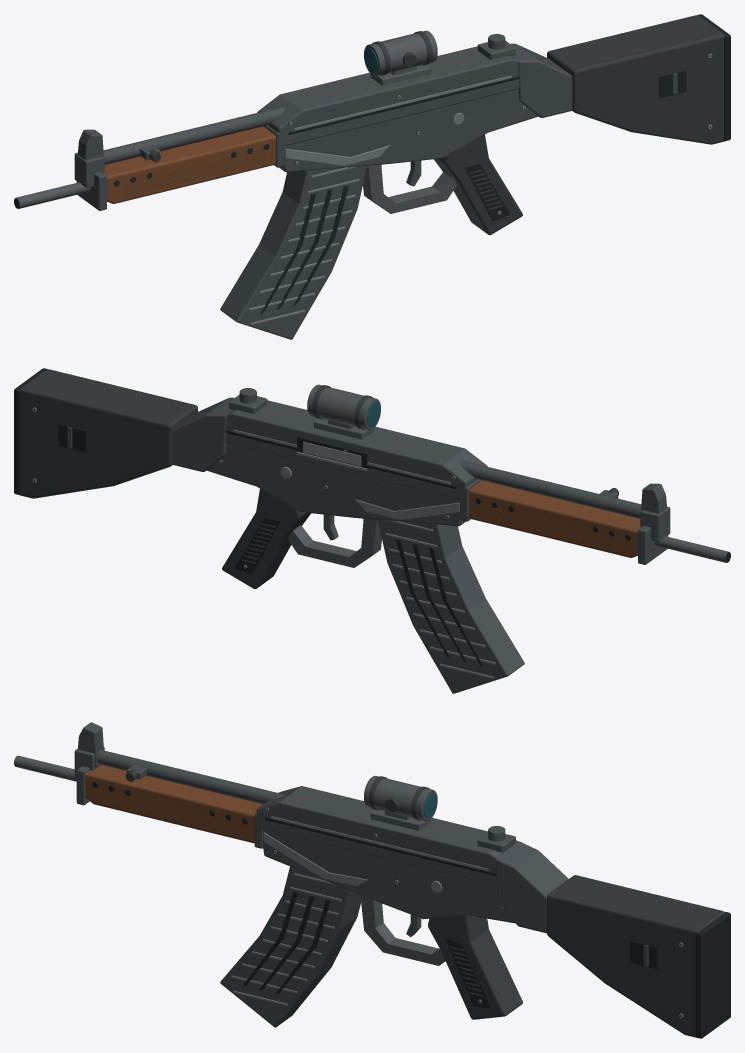
File: ptr32.glb
3 renders of one model, top to bottom at view 1: azimuth 30°, elevation 25°; view 2: azimuth 150°, elevation 25°; view 3: azimuth 330°, elevation 25°, orthographic.
Visible parts, largest first — view 1: part_stock_surfaces, part_receiver_surfaces, part_magazine_surfaces, part_lower_surfaces, part_handguard_surfaces, part_grip_surfaces, part_optic_surfaces, part_sights_surfaces, part_front_surfaces; view 2: part_stock_surfaces, part_receiver_surfaces, part_magazine_surfaces, part_lower_surfaces, part_handguard_surfaces, part_grip_surfaces, part_optic_surfaces, part_sights_surfaces, part_front_surfaces; view 3: part_stock_surfaces, part_receiver_surfaces, part_lower_surfaces, part_magazine_surfaces, part_handguard_surfaces, part_grip_surfaces, part_optic_surfaces, part_sights_surfaces, part_front_surfaces.
Part boxes in pixels (<box>): part_stock_surfaces: <box>511,14,730,144</box>; part_receiver_surfaces: <box>103,46,519,164</box>; part_magazine_surfaces: <box>220,165,366,339</box>; part_lower_surfaces: <box>279,89,537,213</box>; part_handguard_surfaces: <box>76,125,284,210</box>; part_grip_surfaces: <box>434,134,522,234</box>; part_optic_surfaces: <box>364,30,437,85</box>; part_sights_surfaces: <box>74,34,515,187</box>; part_front_surfaces: <box>14,182,90,208</box>; part_stock_surfaces: <box>14,368,233,498</box>; part_receiver_surfaces: <box>225,400,641,518</box>; part_magazine_surfaces: <box>378,519,524,693</box>; part_lower_surfaces: <box>207,443,465,567</box>; part_handguard_surfaces: <box>460,479,668,564</box>; part_grip_surfaces: <box>222,488,310,588</box>; part_optic_surfaces: <box>307,384,380,439</box>; part_sights_surfaces: <box>229,388,670,541</box>; part_front_surfaces: <box>654,536,730,562</box>; part_stock_surfaces: <box>495,841,730,1038</box>; part_receiver_surfaces: <box>97,750,517,885</box>; part_lower_surfaces: <box>263,829,515,965</box>; part_magazine_surfaces: <box>220,866,360,1027</box>; part_handguard_surfaces: <box>76,765,263,848</box>; part_grip_surfaces: <box>428,915,522,1019</box>; part_optic_surfaces: <box>364,776,437,830</box>; part_sights_surfaces: <box>74,722,515,852</box>; part_front_surfaces: <box>14,755,76,781</box>.
Bounding box in the file's own units: 299 × 109 × 22.
